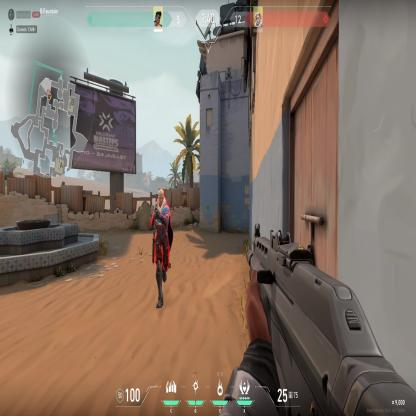enemy: (147, 185, 174, 309)
